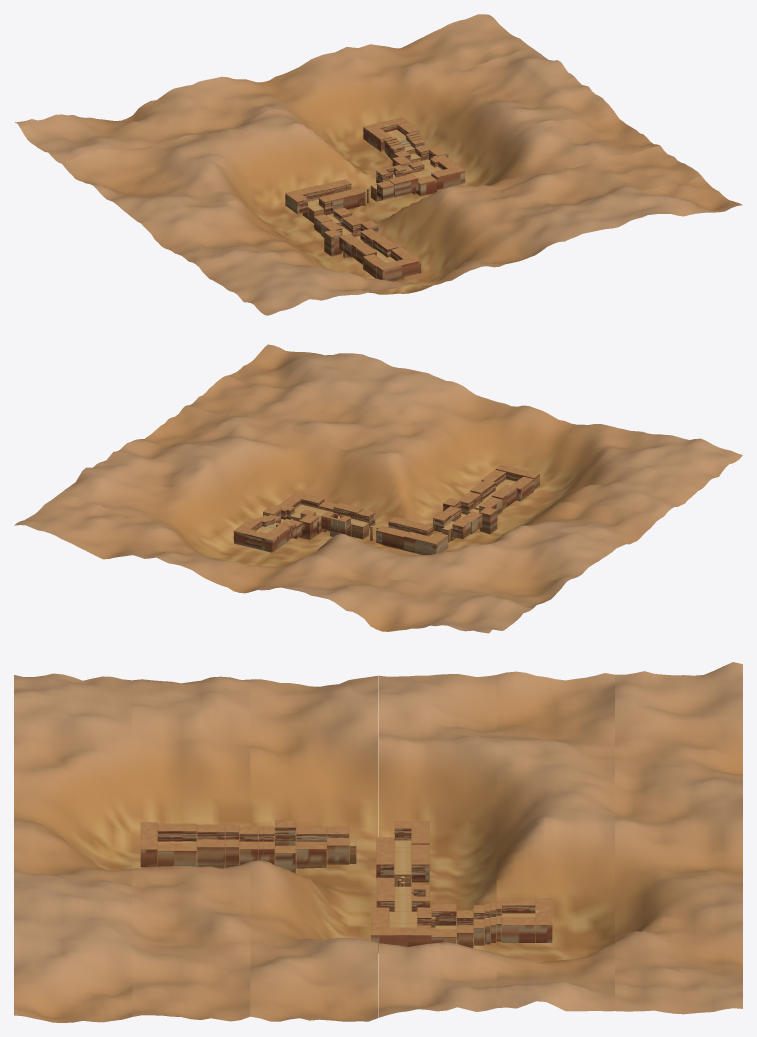
Rendered from sunstone_canyon_terrain.glb.
The picture shows the model from 3 angles, top to bottom: view 1: azimuth 30°, elevation 25°; view 2: azimuth 150°, elevation 25°; view 3: azimuth 270°, elevation 25°; orthographic projection. The views are drawn at different scales.
Parts seen in each view (by area): view 1: backdrop_5, backdrop_4, backdrop_3, backdrop_1, backdrop_2, backdrop_0, terrain_F, terrain_I, terrain_J, terrain_A, terrain_H, terrain_B (+3 smaller); view 2: backdrop_0, backdrop_2, backdrop_1, backdrop_5, backdrop_4, backdrop_3, terrain_F, terrain_J, terrain_I, terrain_H, terrain_A, terrain_D (+3 smaller); view 3: backdrop_5, backdrop_0, backdrop_2, backdrop_4, backdrop_1, backdrop_3, terrain_J, terrain_I, terrain_F, terrain_B, terrain_A, terrain_D (+2 smaller).
Part boxes in pixels (x1,y1,x2,y2): backdrop_5: [15, 14, 533, 162]; backdrop_4: [59, 49, 574, 194]; backdrop_3: [100, 77, 615, 232]; backdrop_1: [185, 145, 701, 293]; backdrop_2: [141, 114, 659, 264]; backdrop_0: [227, 176, 742, 315]; terrain_F: [285, 179, 363, 219]; terrain_I: [392, 145, 465, 189]; terrain_J: [363, 117, 426, 160]; terrain_A: [363, 247, 421, 281]; terrain_H: [376, 165, 437, 197]; terrain_B: [343, 231, 398, 264]; backdrop_0: [227, 344, 742, 492]; backdrop_2: [141, 405, 660, 551]; backdrop_1: [187, 375, 701, 524]; backdrop_5: [14, 494, 533, 633]; backdrop_4: [59, 462, 574, 607]; backdrop_3: [100, 439, 615, 580]; terrain_F: [376, 517, 448, 554]; terrain_J: [233, 515, 296, 552]; terrain_I: [263, 492, 324, 539]; terrain_H: [302, 501, 363, 536]; terrain_A: [481, 464, 539, 504]; terrain_D: [433, 506, 482, 540]; backdrop_5: [615, 662, 742, 1014]; backdrop_0: [14, 673, 132, 1022]; backdrop_2: [250, 675, 378, 1021]; backdrop_4: [496, 671, 614, 1011]; backdrop_1: [132, 676, 250, 1021]; backdrop_3: [378, 674, 496, 1017]; terrain_J: [473, 898, 552, 945]; terrain_I: [371, 903, 473, 952]; terrain_F: [376, 821, 429, 886]; terrain_B: [197, 824, 263, 868]; terrain_A: [140, 822, 196, 867]; terrain_D: [296, 826, 349, 868].
Bounding box in the file's own units: 560 × 63.04 × 518.
